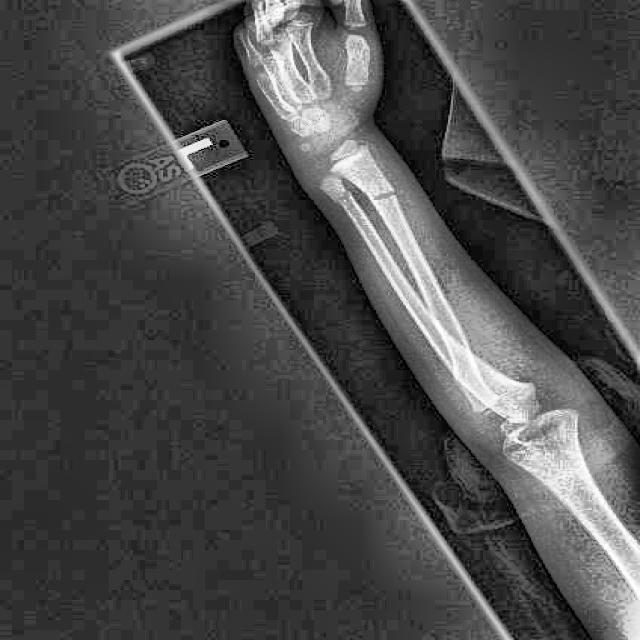forearm fracture: (356, 170, 406, 224), (324, 180, 374, 222)
